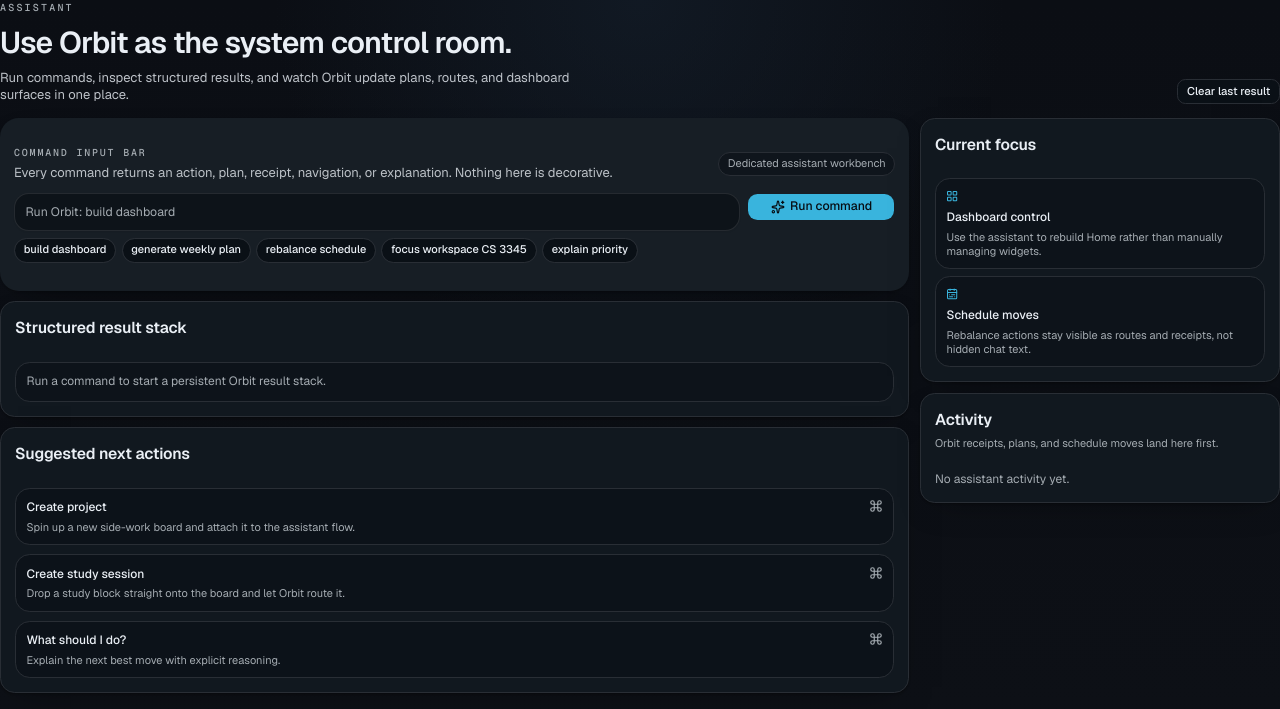
Test case: CommandCenterView › renders structured assistant command results
What coordinates should you click on to do the following:
click the button "generate weekly plan"
I would click on:
 (186, 250)
Its box is left=122, top=238, right=251, bottom=263.
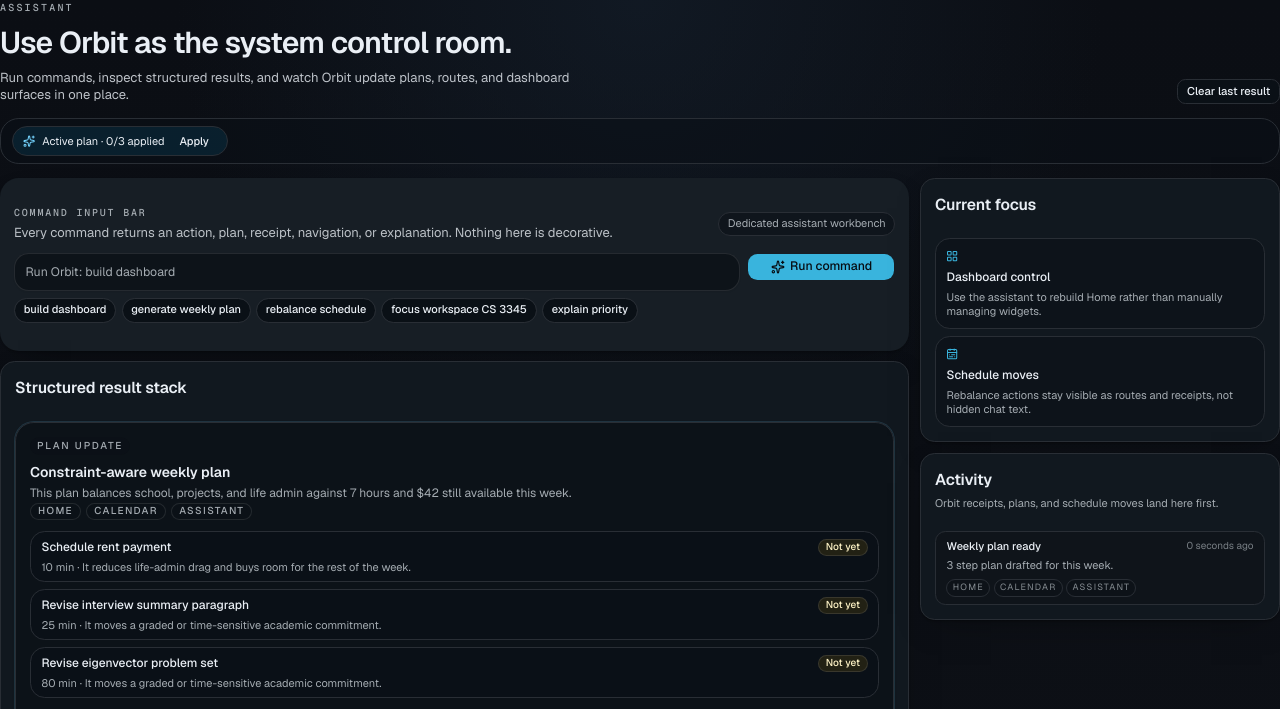
Expected: the text "Dedicated assistant workbench" is shown, left=718, top=212, right=896, bottom=236
Now the text "Weekly plan ready" is shown, box left=946, top=538, right=1041, bottom=552
Now the element with test id "assistant-active-plan" is shown, box left=12, top=126, right=228, bottom=156
